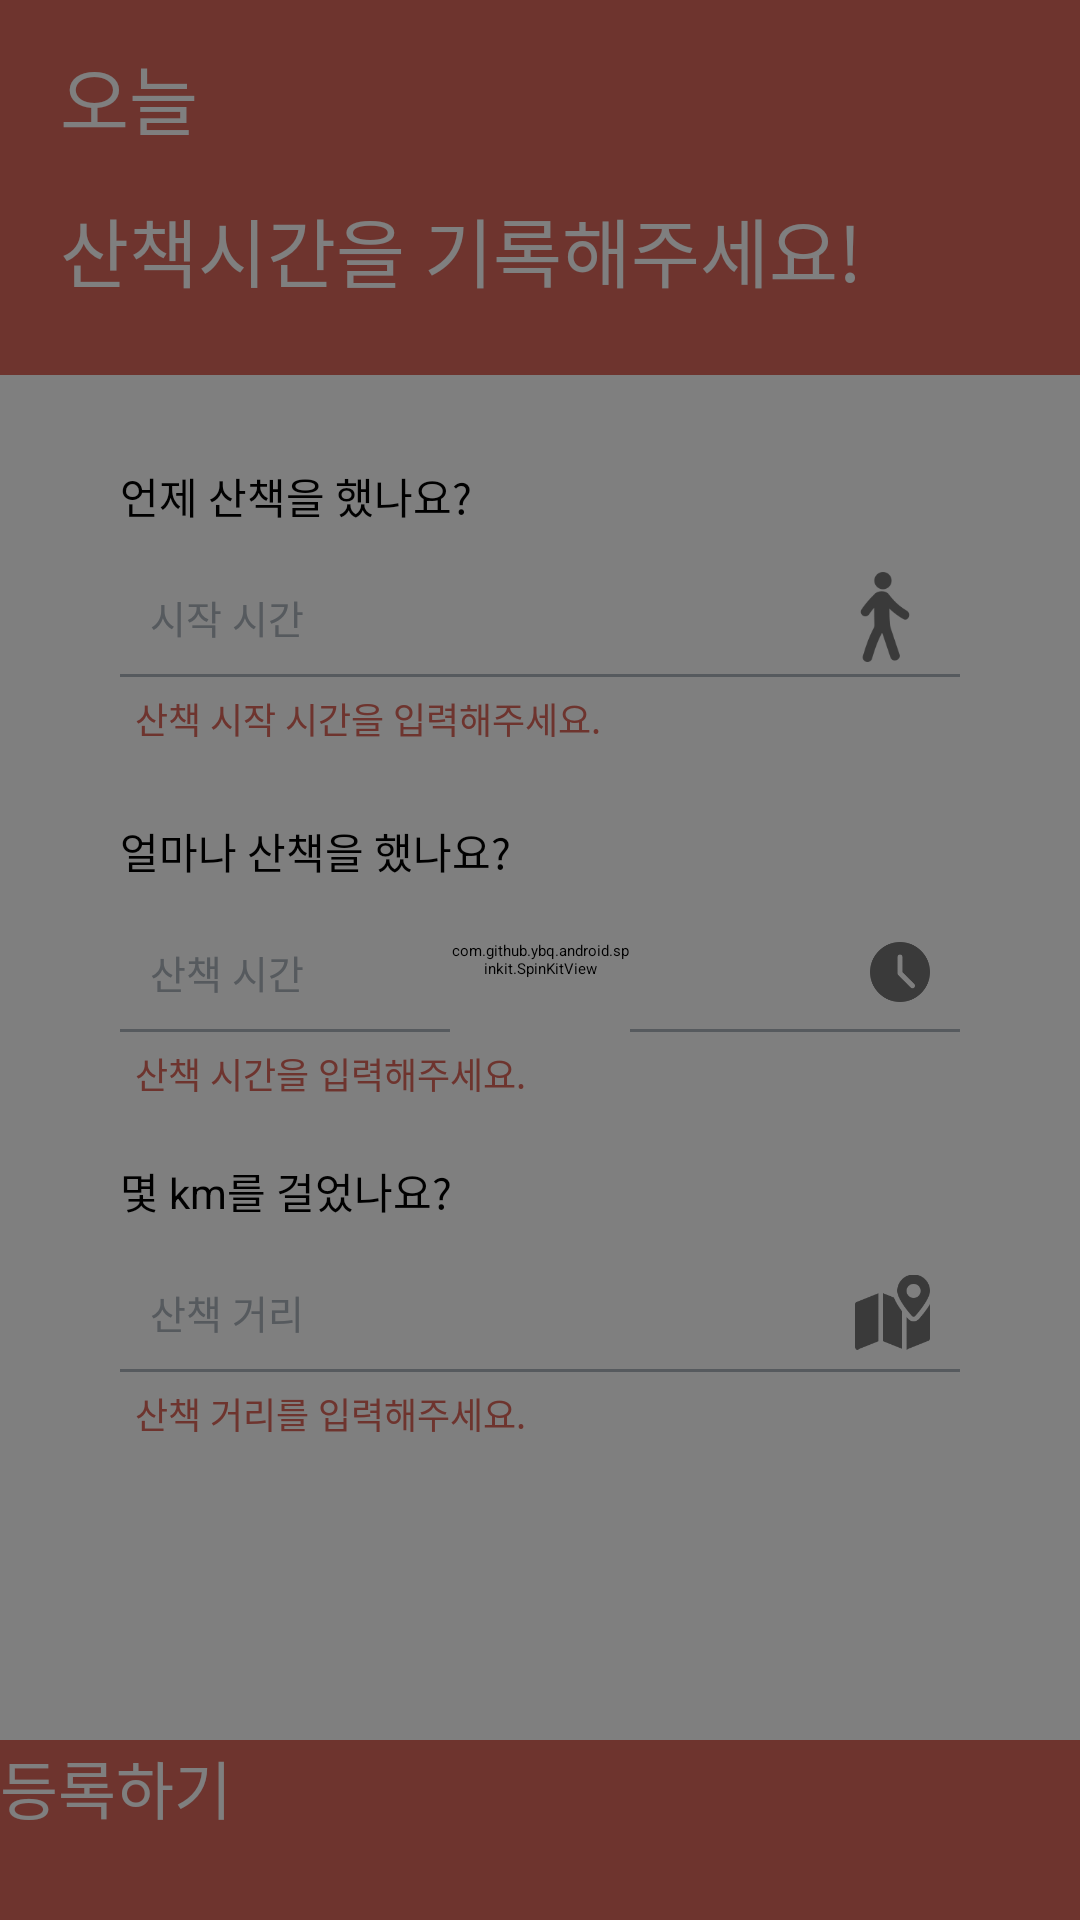

Named icons in this screenshot (1080px x 1920px) and their bounding boxes, {"x1": x1, "y1": y1, "x2": x2, "y2": y2}:
clock: {"x1": 870, "y1": 942, "x2": 930, "y2": 1002}
map: {"x1": 855, "y1": 1275, "x2": 930, "y2": 1350}
walking: {"x1": 861, "y1": 572, "x2": 909, "y2": 662}
